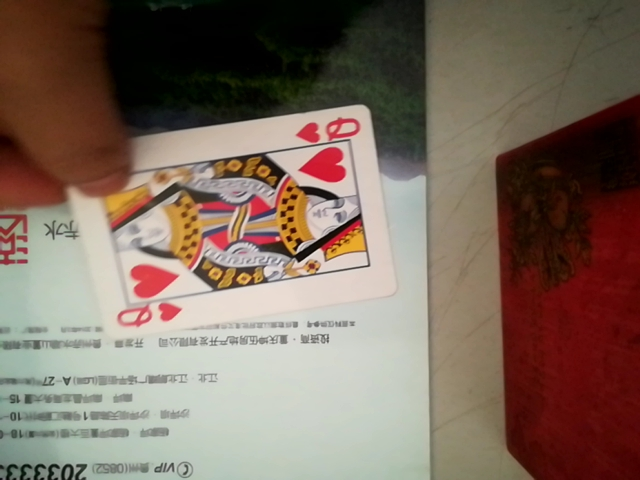hx q: (91, 93, 387, 344)
